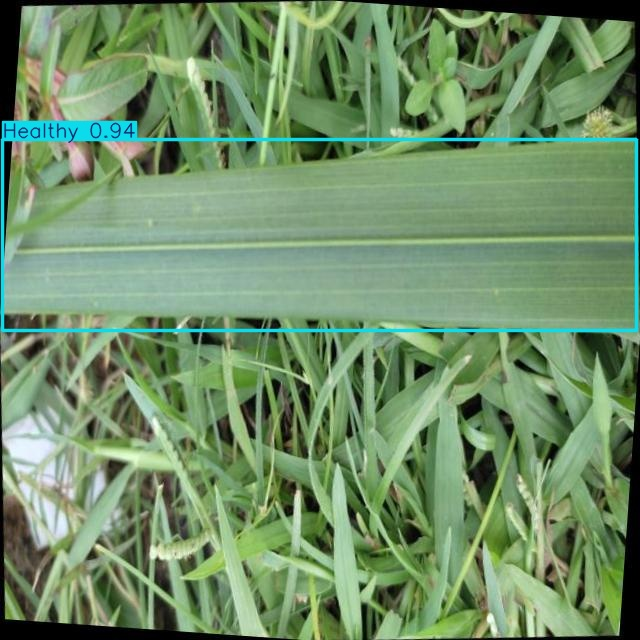Healthy: (2, 139, 636, 331)
